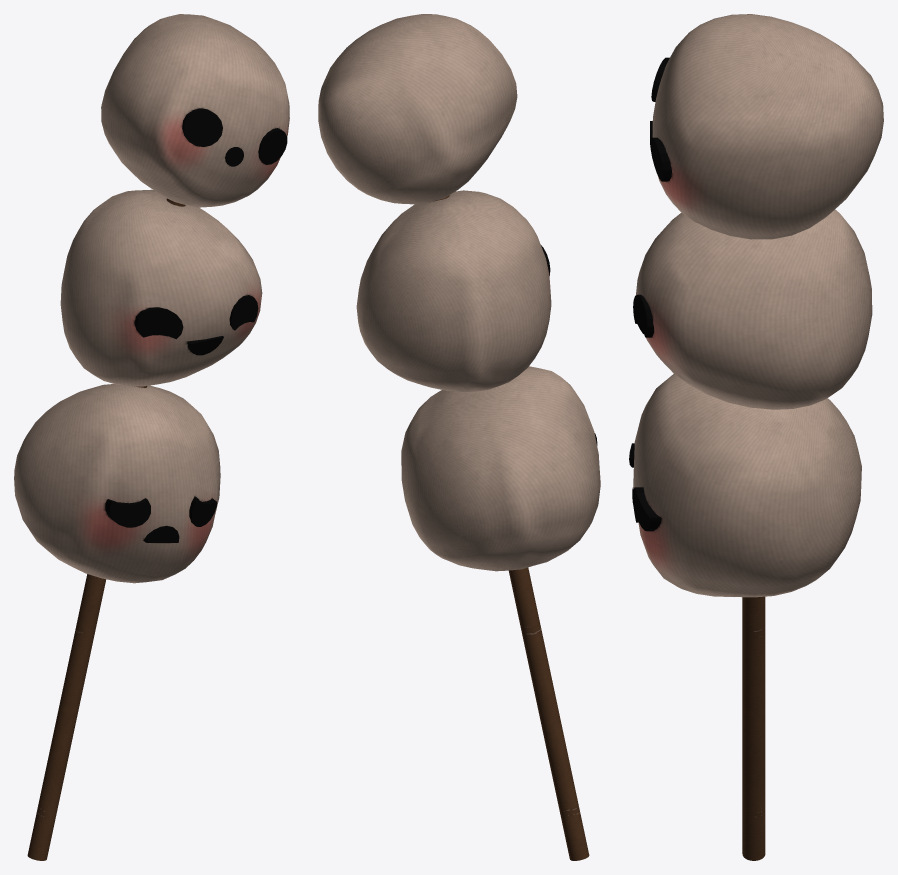
File: FishballLP.fbx
3 renders of one model, left to right at view 1: azimuth 30°, elevation 25°; view 2: azimuth 150°, elevation 25°; view 3: azimuth 270°, elevation 25°, orthographic. The views are drawn at different scales.
Visible parts, largest first — view 1: Fishballs_LP__Joined_Shape; view 2: Fishballs_LP__Joined_Shape; view 3: Fishballs_LP__Joined_Shape.
Boxes of the visible parts, left/top/right/bottom form: Fishballs_LP__Joined_Shape: left=14, top=14, right=289, bottom=860; Fishballs_LP__Joined_Shape: left=318, top=14, right=600, bottom=860; Fishballs_LP__Joined_Shape: left=629, top=14, right=883, bottom=860.
Size of the model in its own units: 150 by 458 by 115.
1 material, 1 textured.
